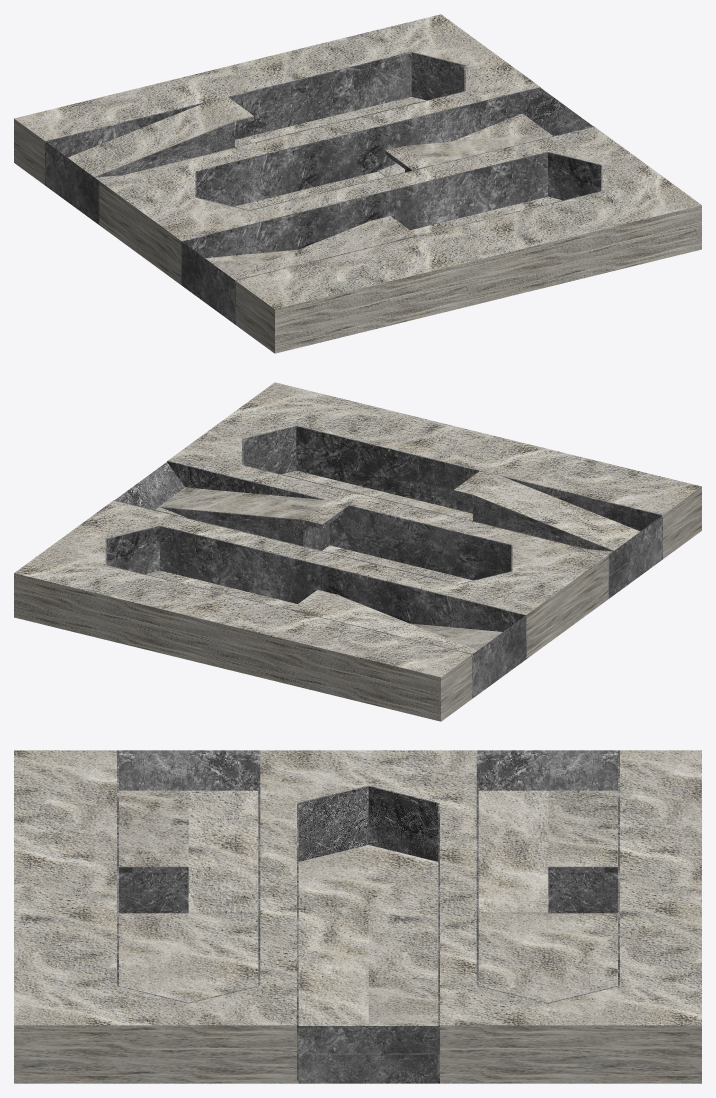
Rendered from scene landscape.fbx.
3 renders of one model, top to bottom at view 1: azimuth 30°, elevation 25°; view 2: azimuth 150°, elevation 25°; view 3: azimuth 270°, elevation 25°, orthographic. The views are drawn at different scales.
Parts seen in each view (by area): view 1: 15 BADKAMER, material2; view 2: 15 BADKAMER, material2; view 3: 15 BADKAMER, material2.
Boxes of the visible parts, x1,y1,x2,y2 form: 15 BADKAMER: [14, 14, 701, 353]; material2: [45, 52, 602, 324]; 15 BADKAMER: [14, 382, 701, 721]; material2: [105, 425, 662, 698]; 15 BADKAMER: [14, 750, 701, 1083]; material2: [117, 750, 619, 1083].
Size of the model in its own units: 70.8 by 7.12 by 74.88.
Materials: 2 (2 with a texture image).
